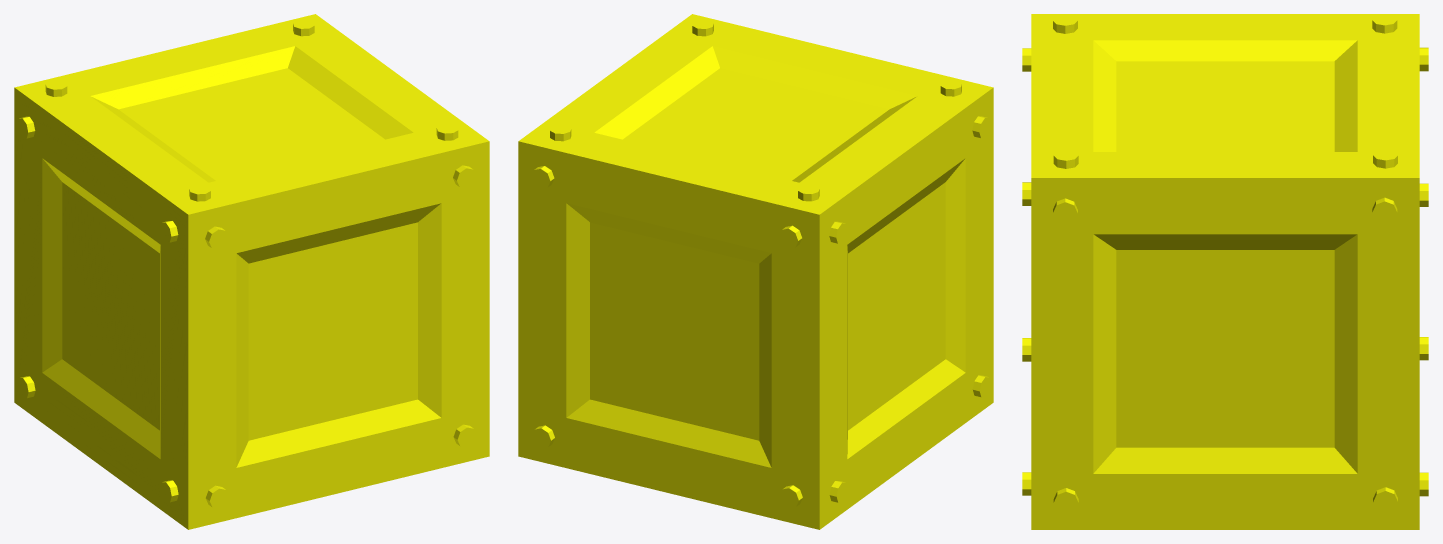
Rendered from Block_Metal.glb.
3 renders of one model, left to right at view 1: azimuth 30°, elevation 25°; view 2: azimuth 150°, elevation 25°; view 3: azimuth 270°, elevation 25°, orthographic. The views are drawn at different scales.
Visible parts, largest first — view 1: Block_Metal; view 2: Block_Metal; view 3: Block_Metal.
Boxes of the visible parts, x1=… form: Block_Metal: x1=14, y1=14, x2=489, y2=529; Block_Metal: x1=518, y1=14, x2=993, y2=529; Block_Metal: x1=1022, y1=14, x2=1428, y2=529.
Size of the model in its own units: 2.09 by 2.09 by 2.09.
1 material, 1 textured.
